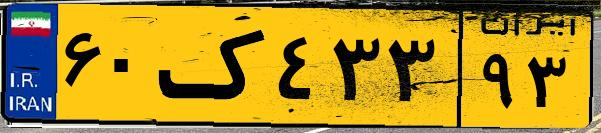0: (110, 28, 158, 98)
3: (385, 28, 445, 110), (330, 28, 385, 110), (525, 38, 570, 115)
4: (270, 28, 330, 110)
6: (57, 26, 110, 100)
9: (475, 38, 525, 113)
ک: (158, 12, 270, 120)
